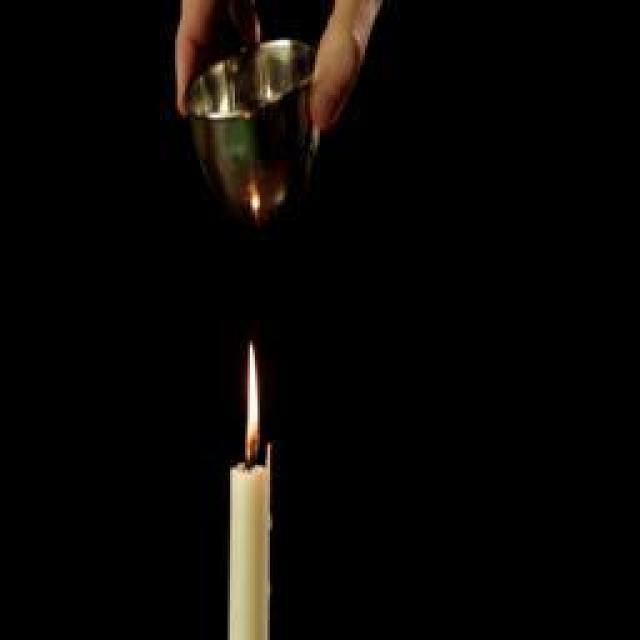Fire: (245, 344, 260, 454)
